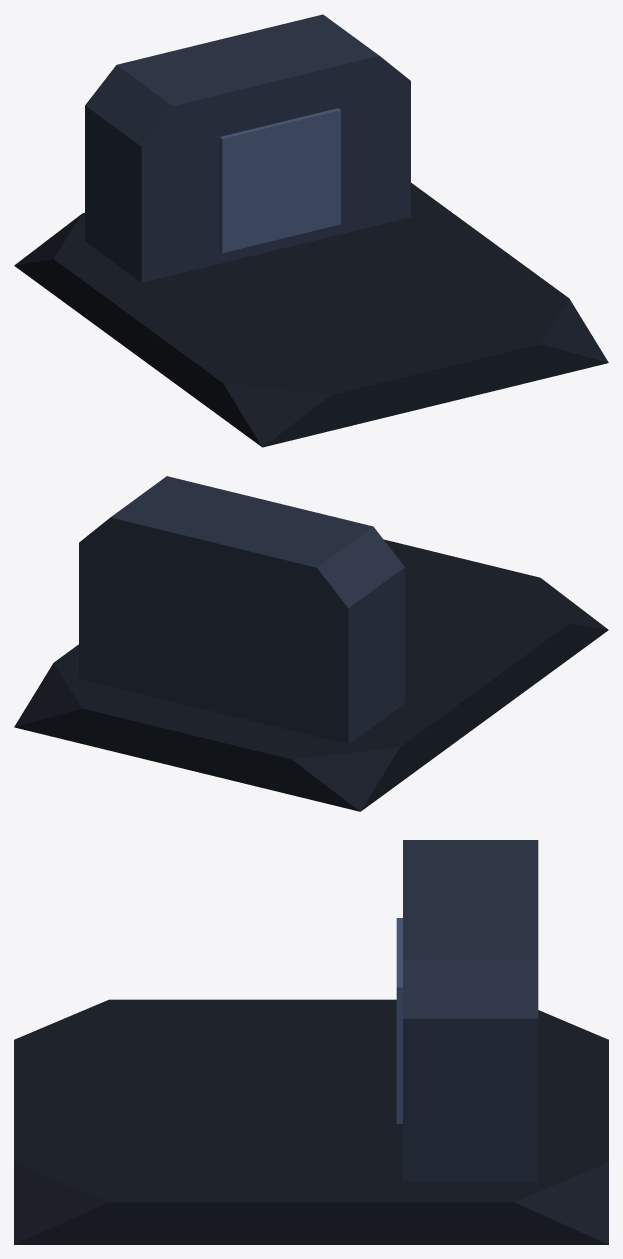
The model's file is grave4.FBX.
The picture shows the model from 3 angles, top to bottom: view 1: azimuth 30°, elevation 25°; view 2: azimuth 150°, elevation 25°; view 3: azimuth 270°, elevation 25°; orthographic projection. The views are drawn at different scales.
Visible parts, largest first — view 1: grave4; view 2: grave4; view 3: grave4.
Boxes of the visible parts, left/top/right/bottom form: grave4: left=14, top=14, right=608, bottom=447; grave4: left=14, top=476, right=608, bottom=811; grave4: left=14, top=840, right=608, bottom=1244.
Size of the model in its own units: 13.31 by 7.51 by 16.53.
